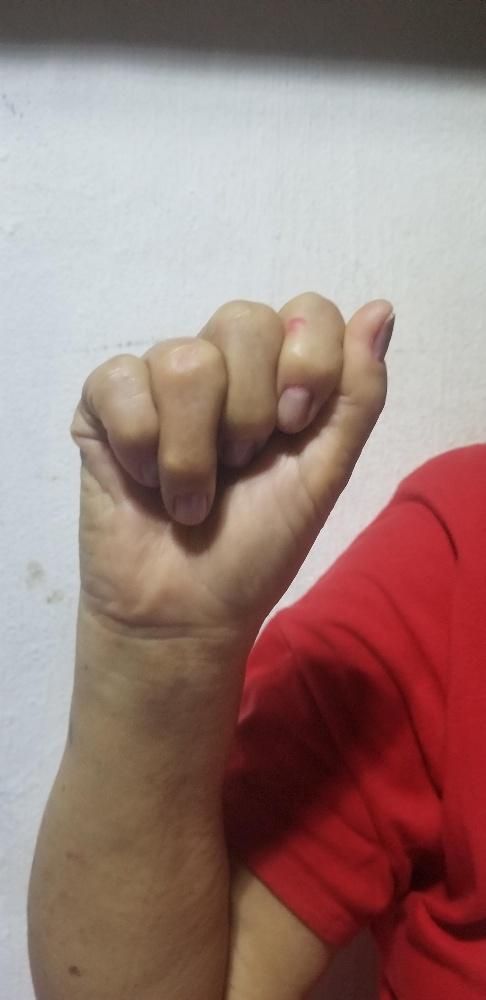a: (67, 288, 399, 627)
